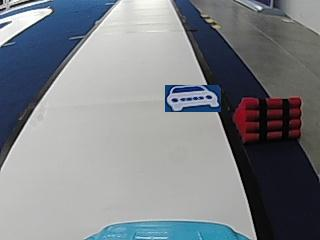bomb: (233, 97, 303, 140)
